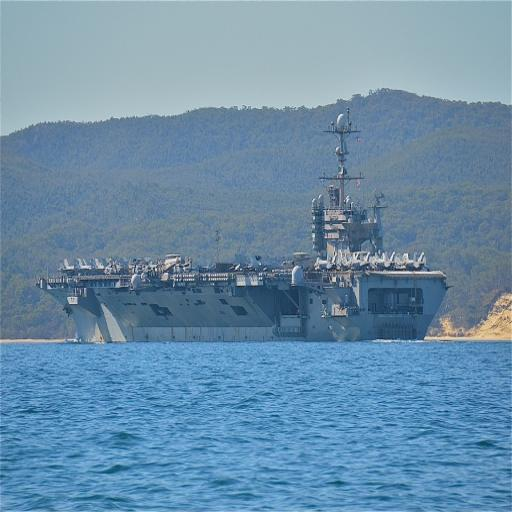Portanaves: (36, 110, 454, 346)
